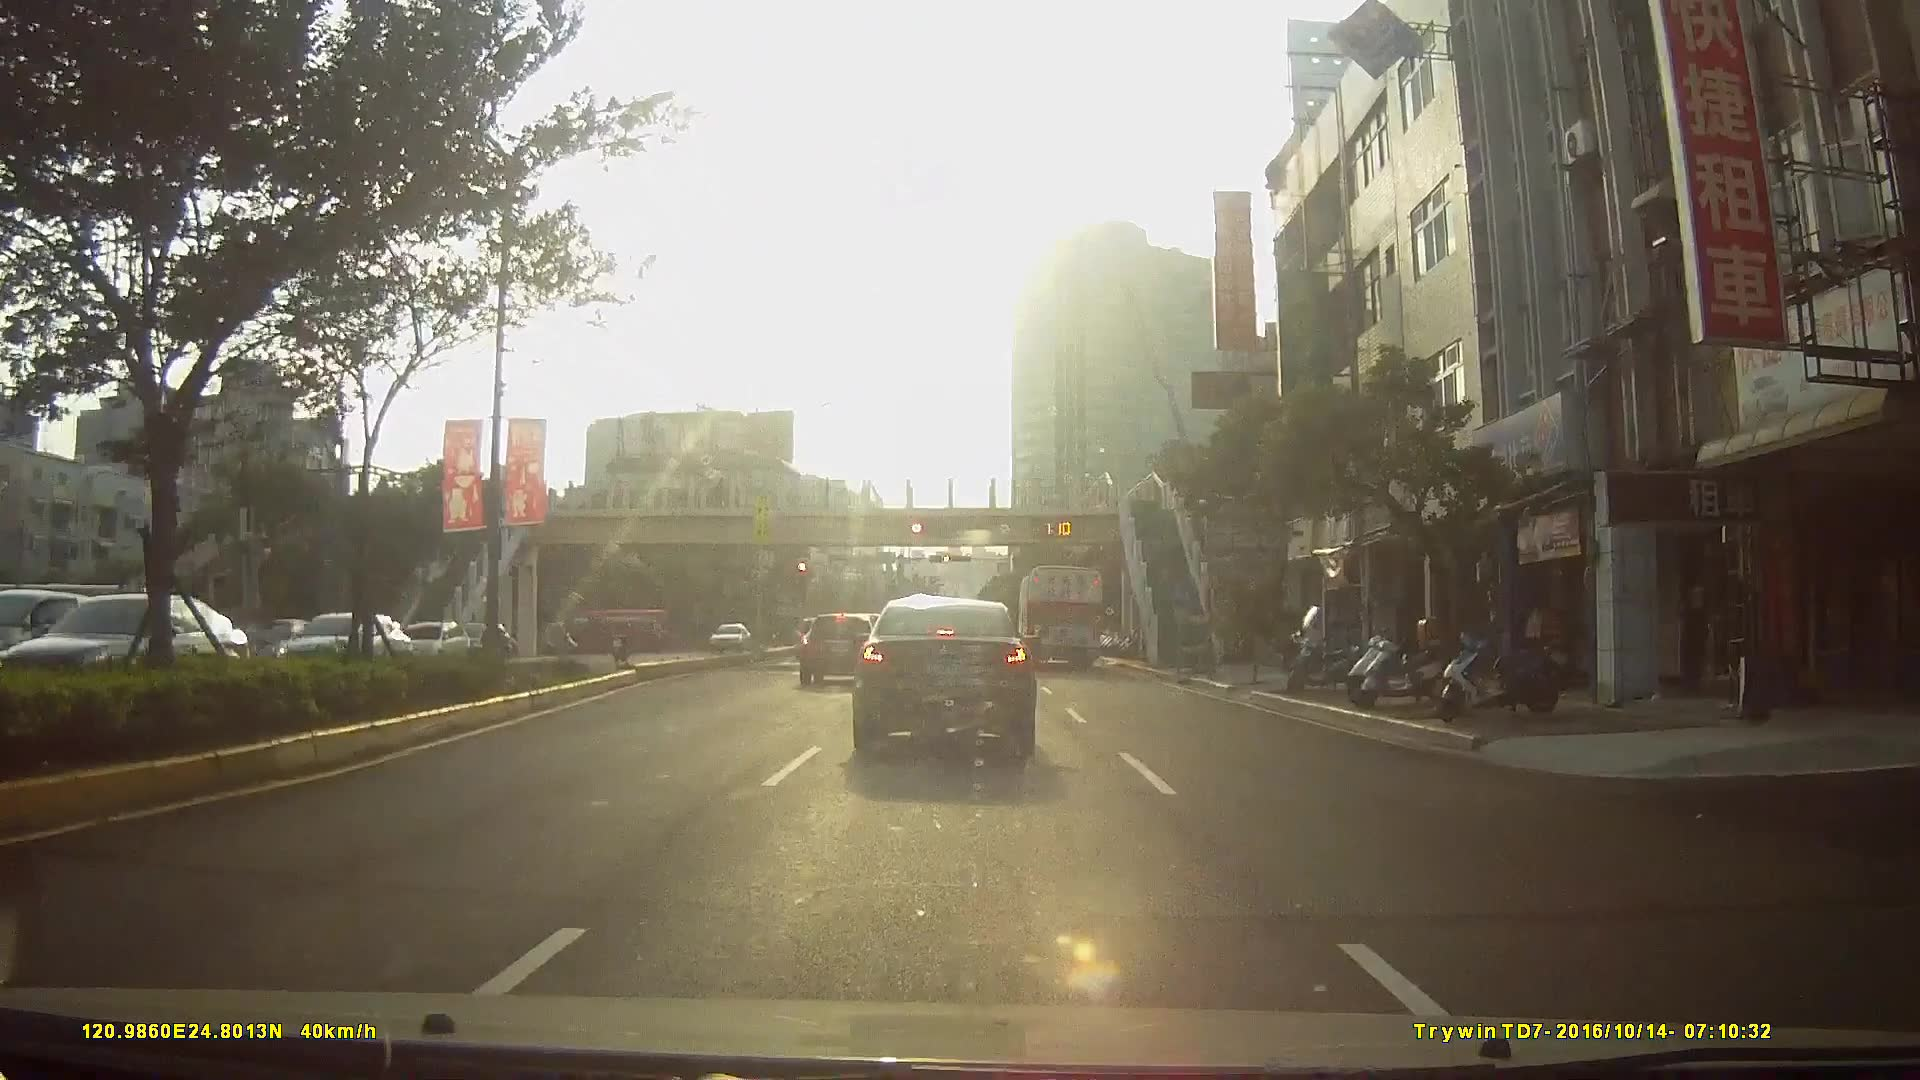rider: (608, 619, 633, 665)
vehicle: (848, 595, 1037, 755), (1014, 561, 1107, 671), (794, 610, 878, 689), (704, 619, 750, 654)
